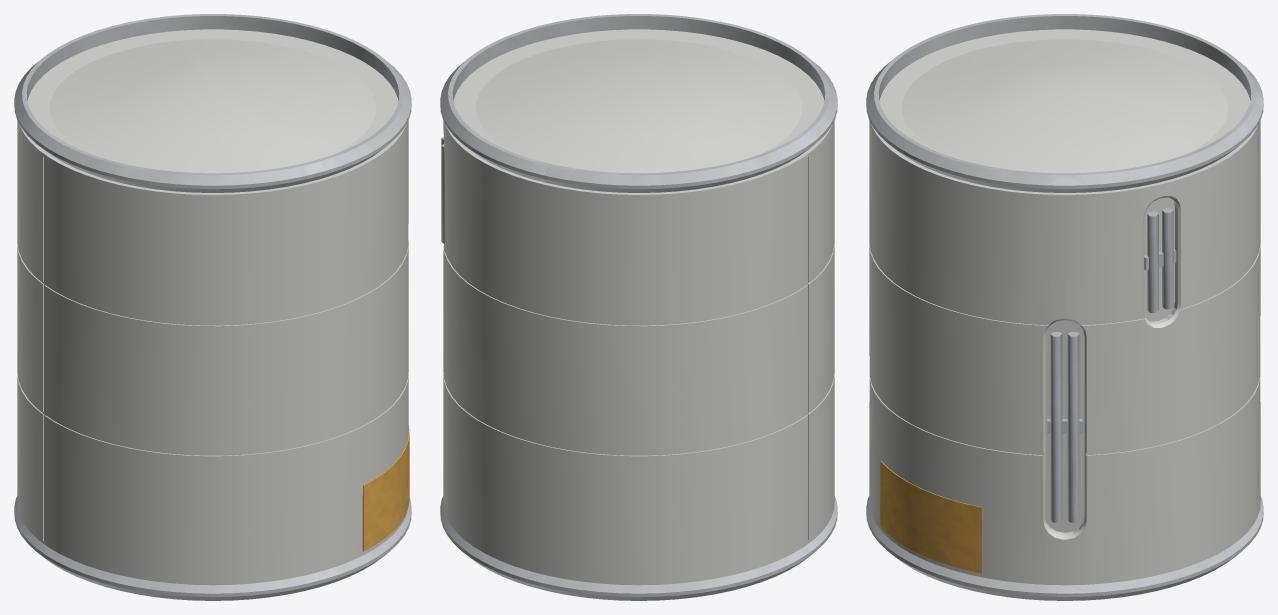
File: ax_tank_01_modern_methalox_m_short.glb
The picture shows the model from 3 angles, left to right: view 1: azimuth 30°, elevation 25°; view 2: azimuth 150°, elevation 25°; view 3: azimuth 270°, elevation 25°; orthographic projection.
Parts seen in each view (by area): view 1: tank_barrel, dome_caps, end_rings, mli_patch; view 2: tank_barrel, dome_caps, end_rings; view 3: tank_barrel, dome_caps, end_rings, raceway_lines, mli_patch.
Part boxes in pixels (x1,y1,x2,y2): tank_barrel: (17, 120, 408, 585); dome_caps: (27, 29, 398, 173); end_rings: (14, 14, 411, 600); mli_patch: (362, 425, 409, 551); tank_barrel: (443, 120, 834, 585); dome_caps: (453, 29, 824, 173); end_rings: (440, 14, 837, 600); tank_barrel: (869, 120, 1260, 585); dome_caps: (879, 29, 1250, 173); end_rings: (866, 14, 1263, 600); raceway_lines: (1047, 207, 1176, 522); mli_patch: (880, 460, 982, 573).
Size of the model in its own units: 2.54 by 3.07 by 2.54.
3 materials, 2 textured.
